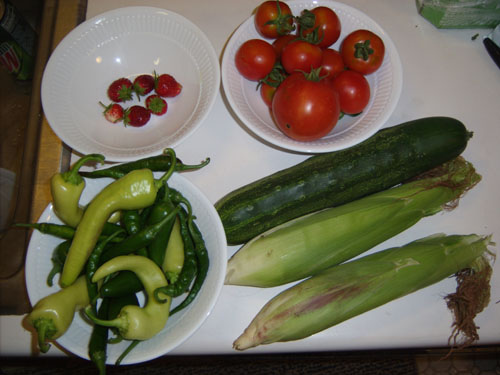cucumber: (213, 115, 481, 247)
